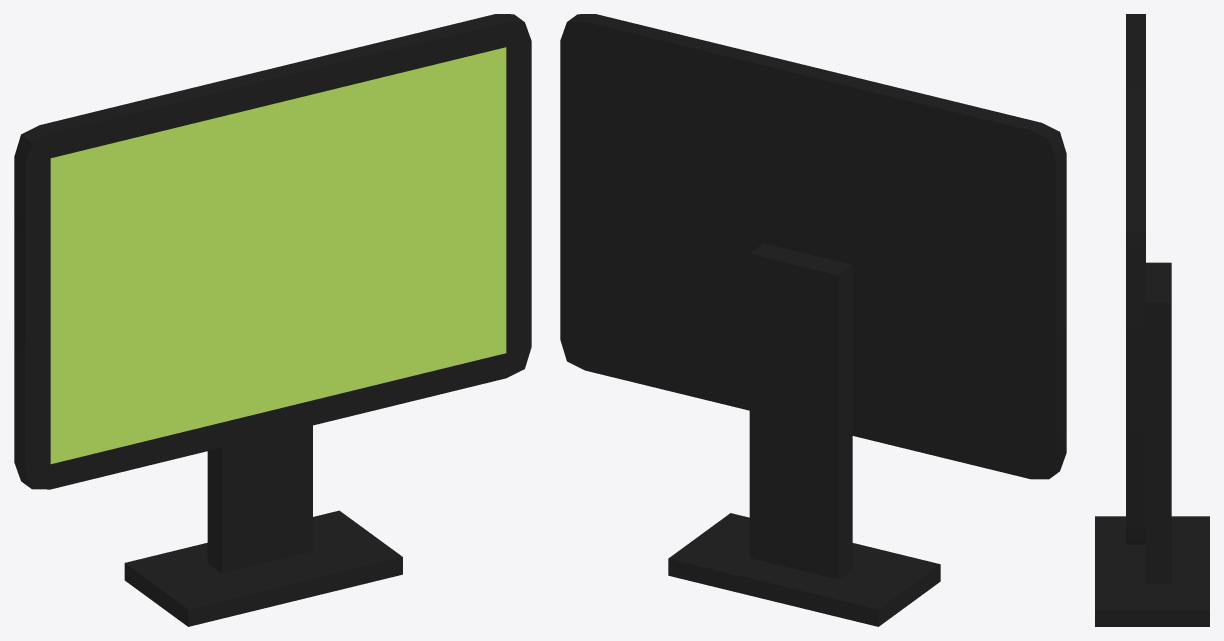
The model's file is 显示器1.fbx.
3 renders of one model, left to right at view 1: azimuth 30°, elevation 25°; view 2: azimuth 150°, elevation 25°; view 3: azimuth 270°, elevation 25°, orthographic. The views are drawn at different scales.
Parts seen in each view (by area): view 1: computer_2; view 2: computer_2; view 3: computer_2.
Boxes of the visible parts, box(x1,y1,x2,y2) form: computer_2: box(14, 14, 531, 626); computer_2: box(560, 14, 1066, 626); computer_2: box(1095, 14, 1209, 626).
Bounding box in the file's own units: 56.3 × 54.25 × 12.24.
